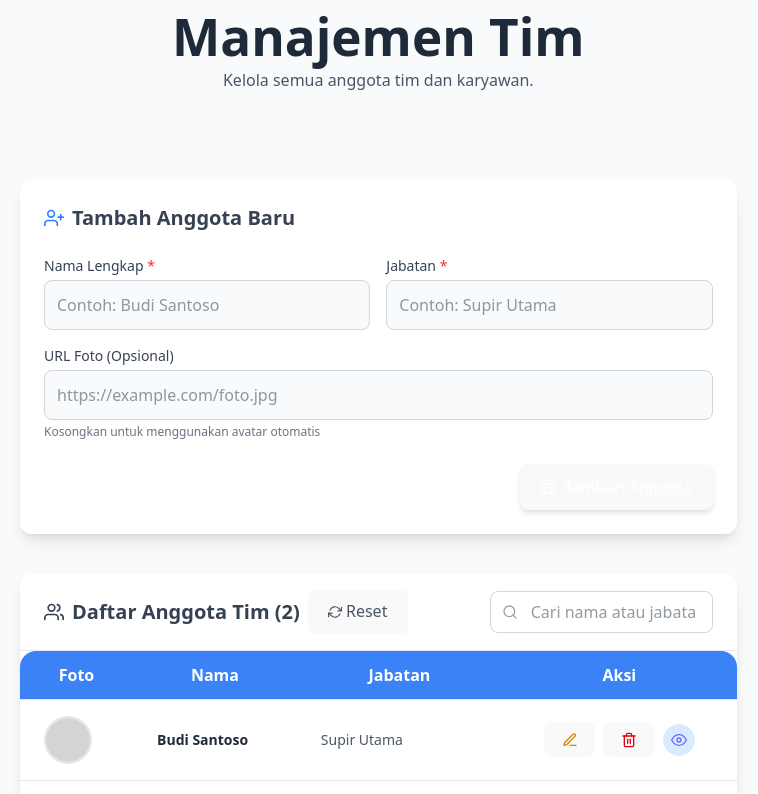
Tim - CRUD Operations › should reset form when cancel edit is clicked
Check: the text "Budi Santoso" is shown, box 157,730 -> 248,748
Click the button titled "Edit" at (570, 740), box 544,722 -> 595,757
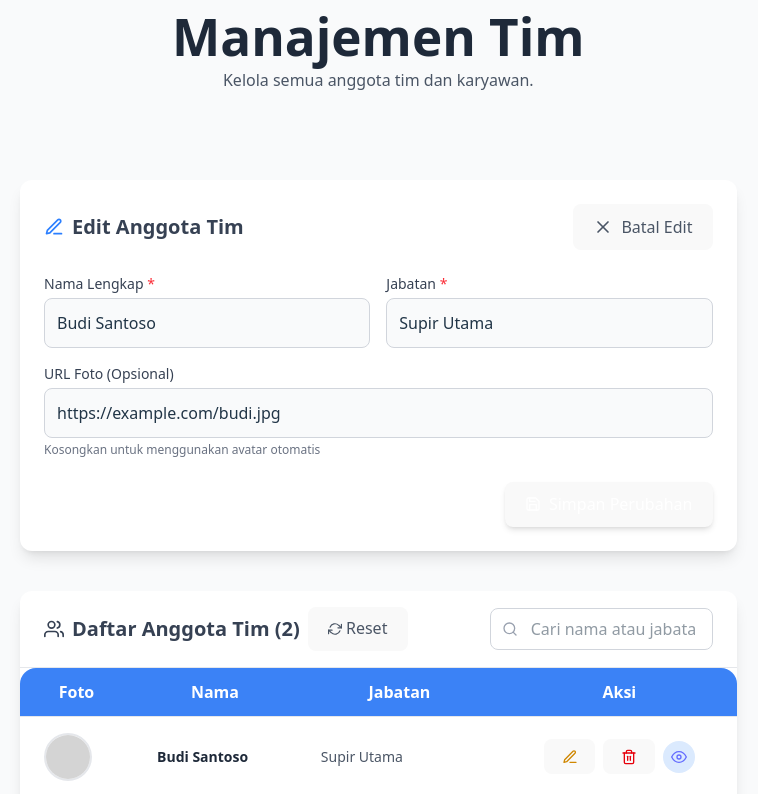
Check: the field showing "Budi Santoso" is shown, box 44,298 -> 370,348
Check: the button "Batal Edit" is shown
// Click cancel edit
Click the button "Batal Edit" at (643, 227), box 573,204 -> 713,250
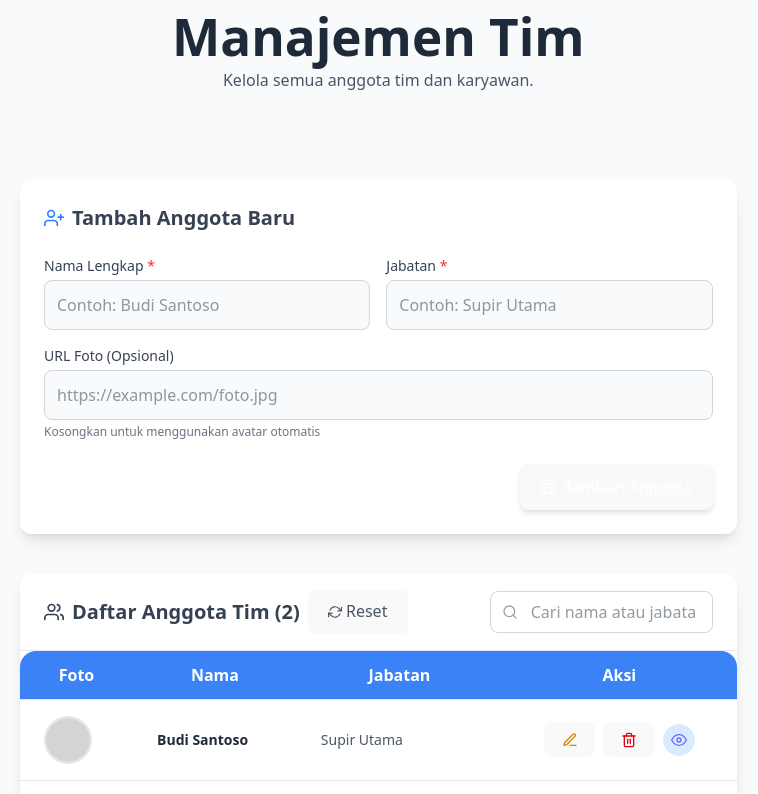
Check: the button "Batal Edit" is gone
Check: the field with placeholder "Contoh: Budi Santoso" is empty, box 44,280 -> 370,330
Check: the field with placeholder "Contoh: Supir Utama" is empty, box 386,280 -> 713,330
